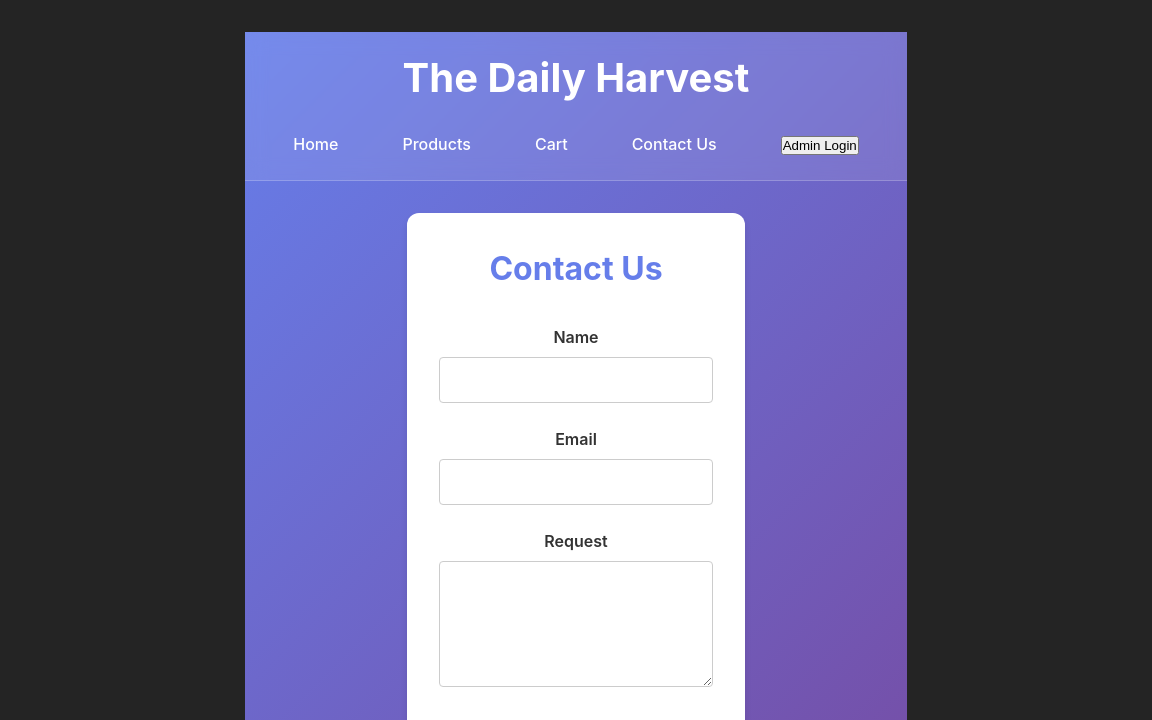
Test case: ContactPage › shows thank you modal when form is submitted
Type "John Doe" into the field labelled "Name".
click(576, 380); type("John Doe")  # box [439, 357, 713, 403]
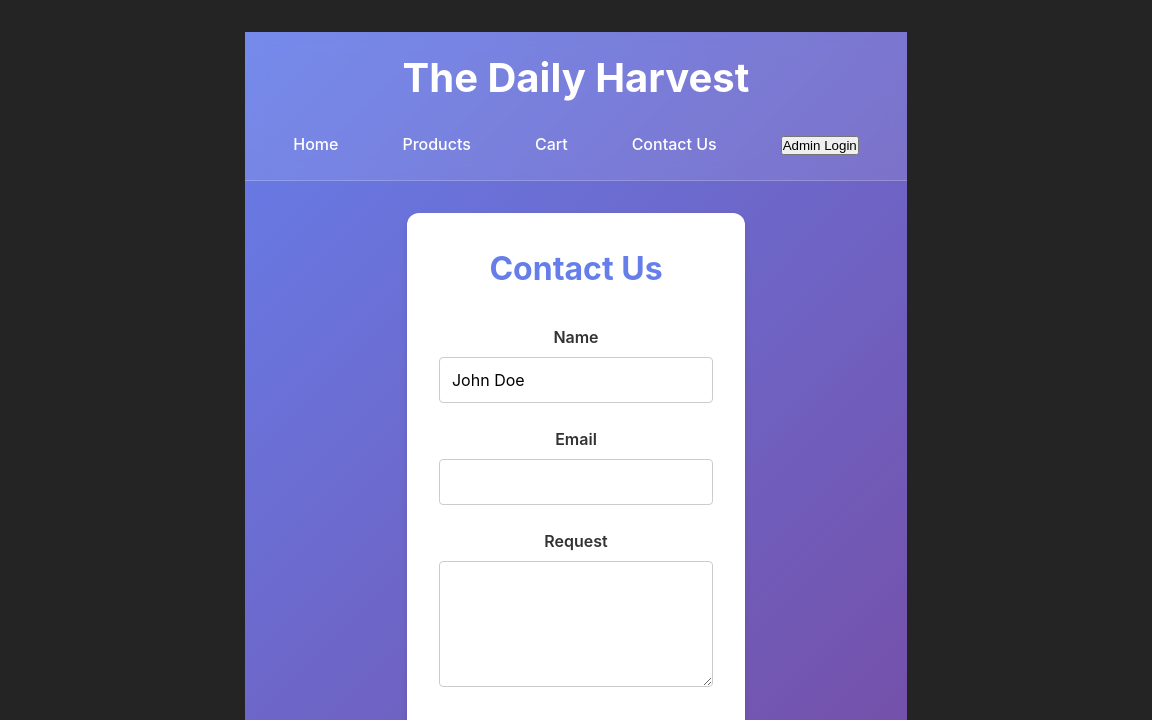
Type "john@example.com" into the field labelled "Email".
click(576, 482); type("john@example.com")  # box [439, 459, 713, 505]
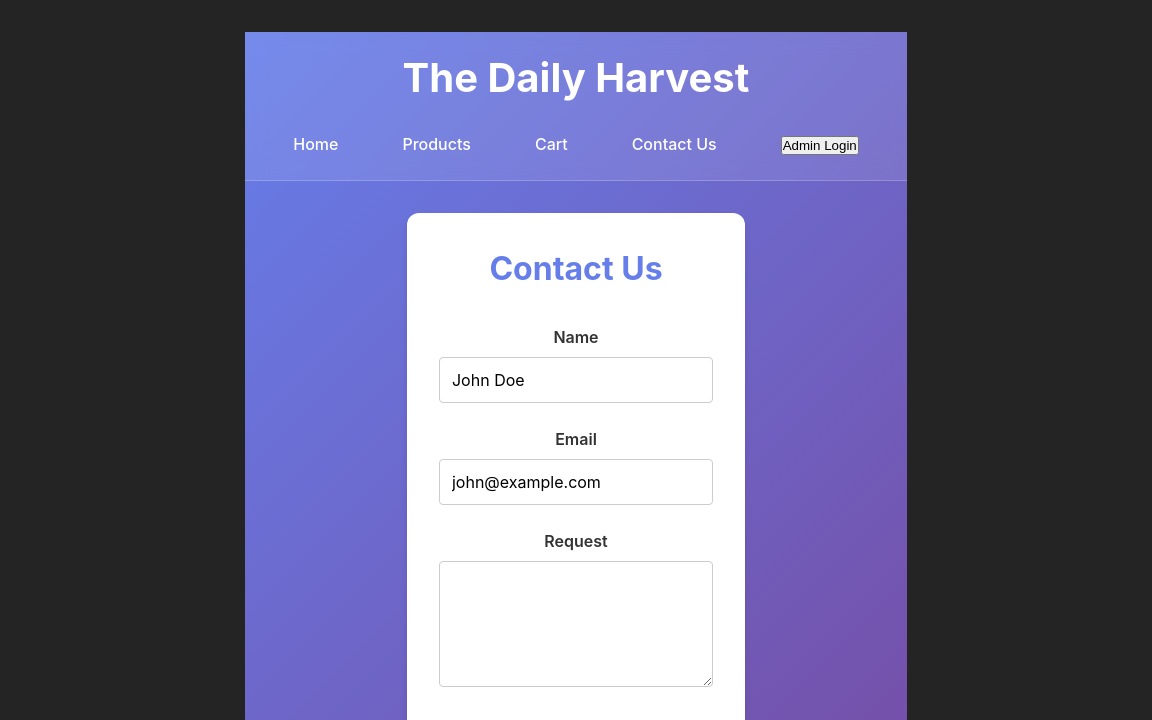
Type "I need help" into the text box labelled "Request".
click(576, 624); type("I need help")  # box [439, 561, 713, 687]
(page scrolled)
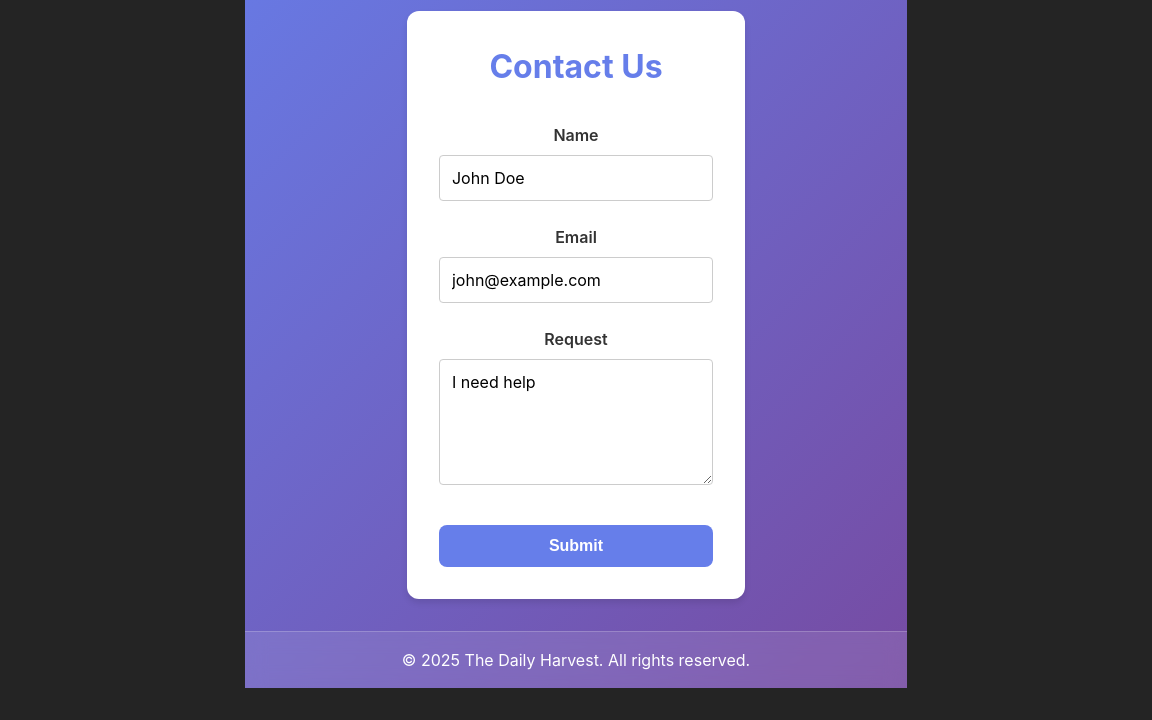
Click the button "Submit".
click(576, 546)  # box [439, 525, 713, 567]
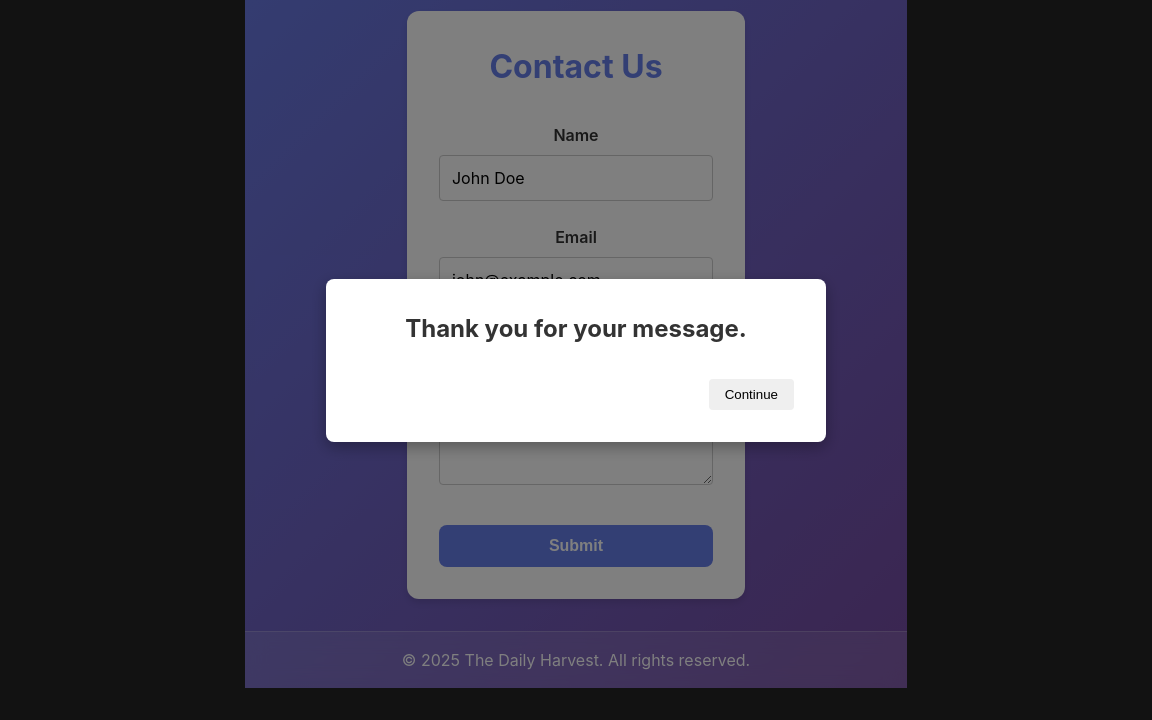
Result: the heading "Thank you for your message." is shown at [405, 314, 747, 342]
Result: the button "Continue" is shown at [709, 378, 794, 410]
